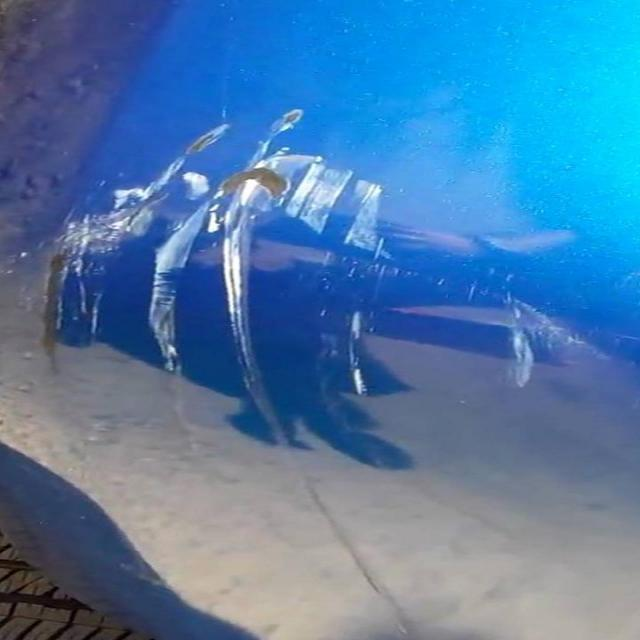scratch: (19, 93, 476, 418)
